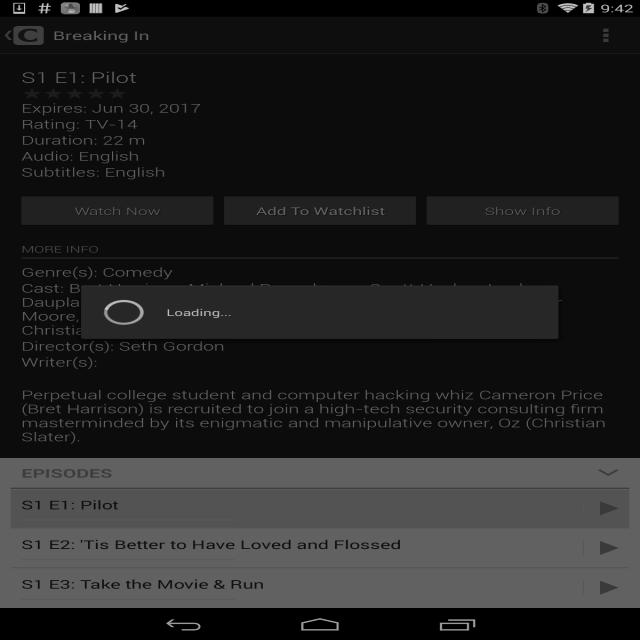Button: (22, 197, 214, 226), (426, 197, 618, 226)
CheckedTextView: (11, 458, 629, 488)
ImageButton: (571, 16, 640, 54), (584, 502, 619, 516), (584, 541, 619, 555), (584, 580, 619, 594)
ImageView: (13, 26, 44, 45), (21, 87, 43, 100), (85, 87, 107, 100), (43, 87, 64, 100), (64, 87, 85, 100), (107, 87, 128, 100), (0, 30, 17, 41)
ProgressBar: (21, 519, 235, 521), (21, 559, 235, 560), (21, 599, 235, 600)
TextView: (21, 280, 619, 338), (21, 386, 619, 444), (21, 264, 619, 280), (21, 338, 619, 354), (21, 354, 619, 370), (21, 496, 572, 513), (21, 536, 572, 552), (21, 576, 572, 592), (21, 243, 619, 255), (21, 100, 201, 116), (21, 164, 166, 180), (22, 67, 136, 87), (21, 132, 150, 148), (22, 148, 140, 164), (21, 116, 138, 132), (48, 27, 149, 43)
